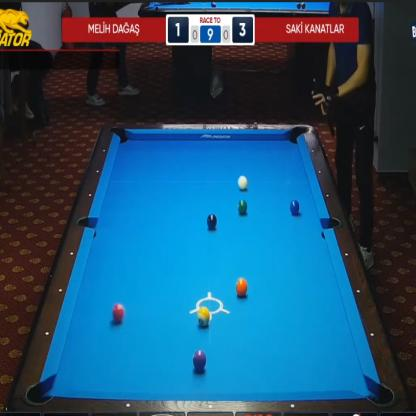Ball: (192, 350, 206, 371), (197, 306, 210, 325), (236, 278, 248, 296), (113, 303, 124, 322), (290, 199, 300, 216), (207, 213, 217, 230), (238, 199, 247, 216), (238, 175, 247, 190)
